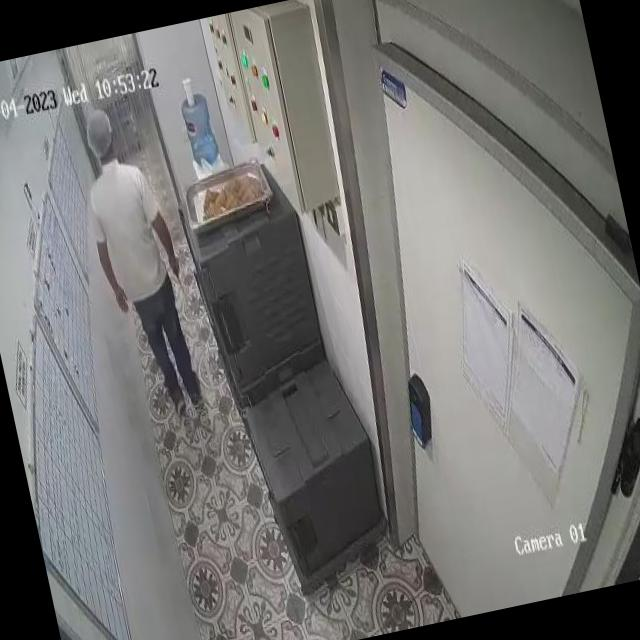hairnet: (81, 106, 114, 152)
